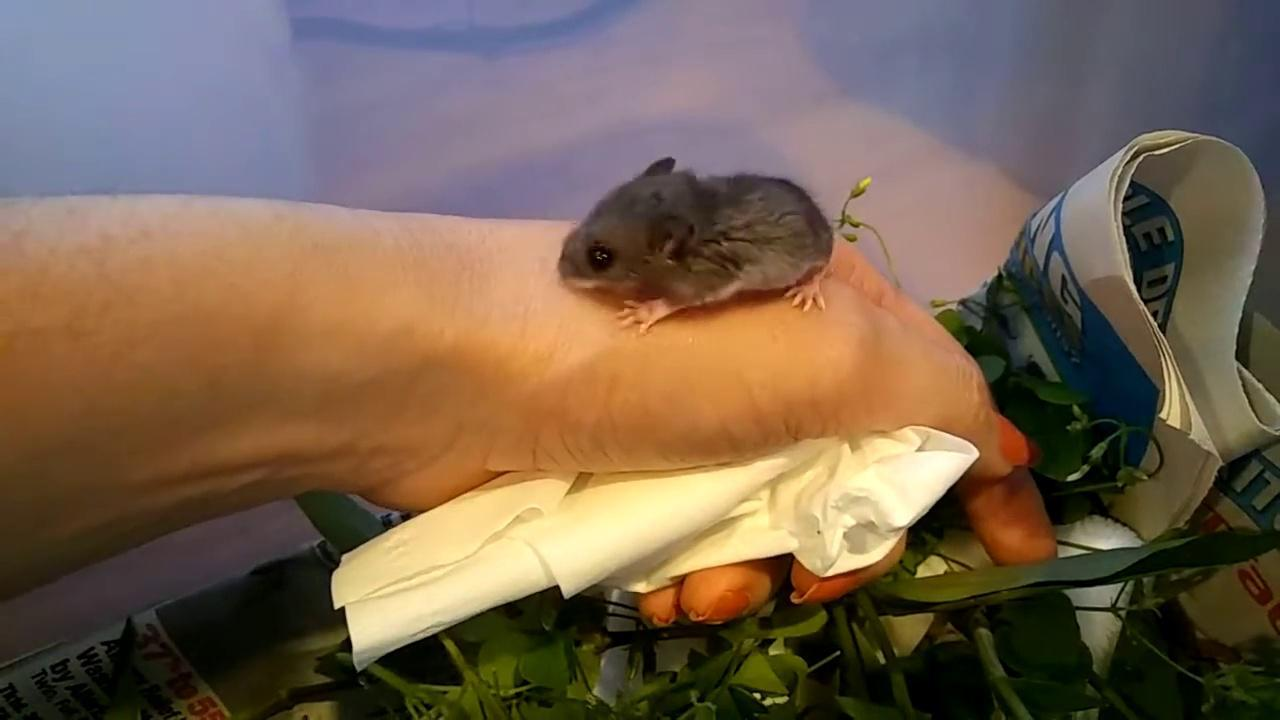rat: (560, 157, 834, 335)
